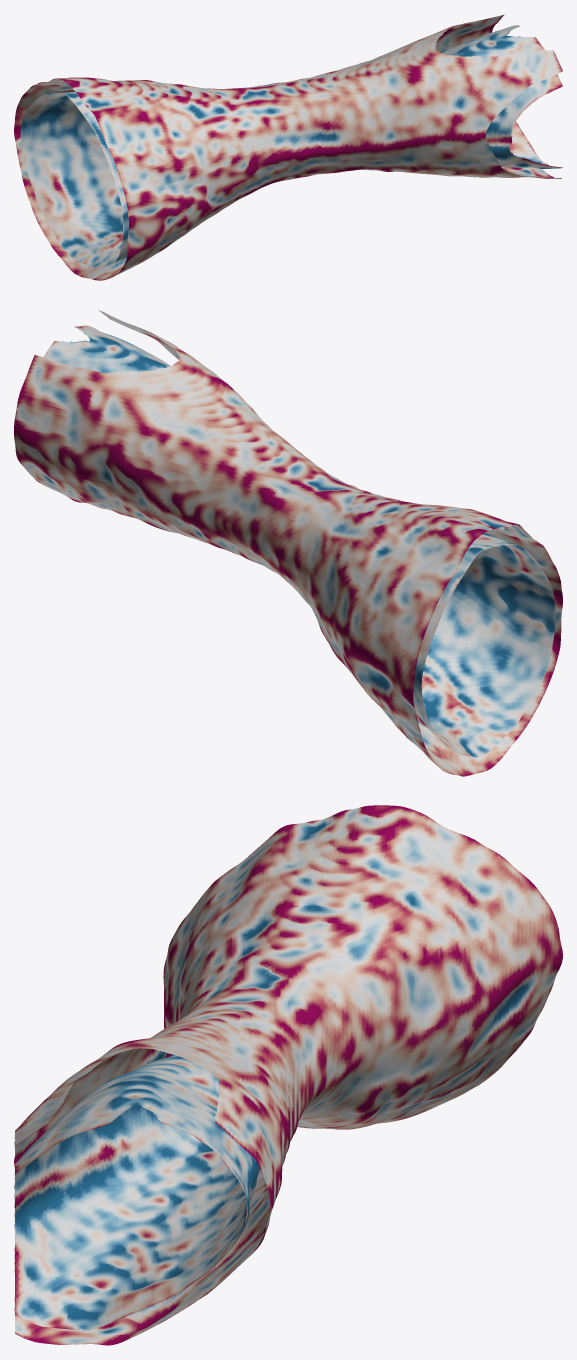
The model's file is crop1116_deviation.glb.
The picture shows the model from 3 angles, top to bottom: view 1: azimuth 30°, elevation 25°; view 2: azimuth 150°, elevation 25°; view 3: azimuth 270°, elevation 25°; orthographic projection. The views are drawn at different scales.
Parts seen in each view (by area): view 1: world; view 2: world; view 3: world.
Boxes of the visible parts, left/top/right/bottom form: world: left=14, top=14, right=562, bottom=280; world: left=14, top=310, right=562, bottom=776; world: left=14, top=805, right=562, bottom=1345.
Bounding box in the file's own units: 3078 × 1447 × 2153.
